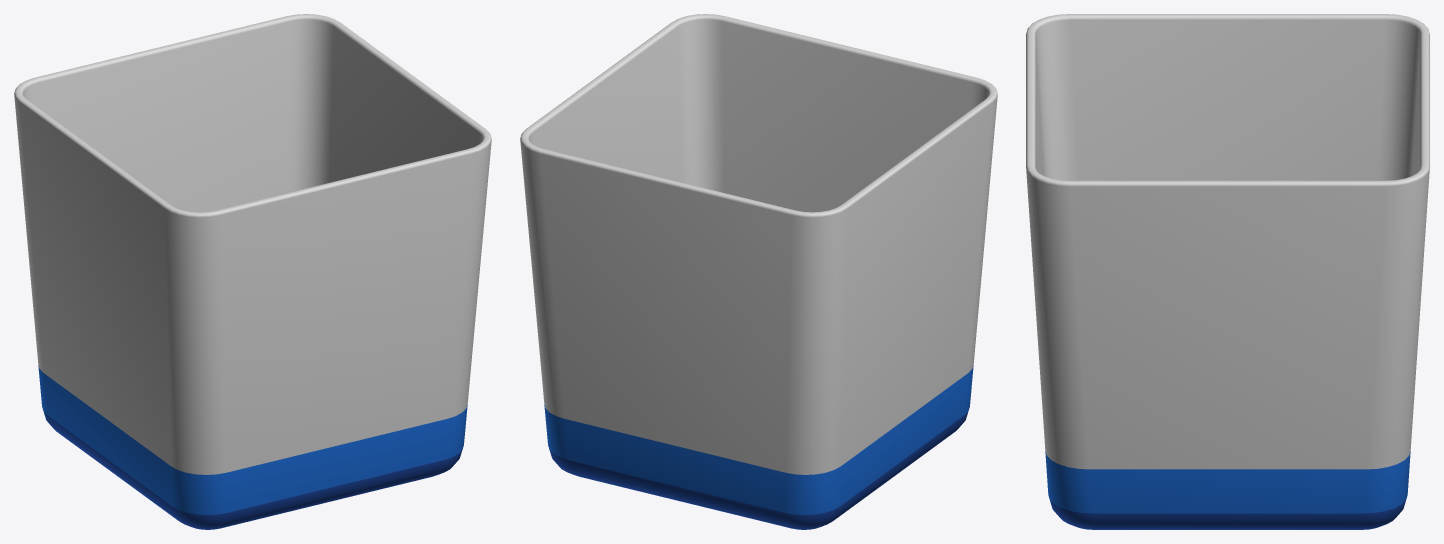
File: akvaryum.fbx
3 views of the same model, side by side, from view 1: azimuth 30°, elevation 25°; view 2: azimuth 150°, elevation 25°; view 3: azimuth 270°, elevation 25° (orthographic). The views are drawn at different scales.
Parts seen in each view (by area): view 1: akvaryum, akvaryum.001; view 2: akvaryum, akvaryum.001; view 3: akvaryum, akvaryum.001.
Boxes of the visible parts, x1,y1,x2,y2 form: akvaryum: [14, 14, 491, 474]; akvaryum.001: [38, 365, 467, 529]; akvaryum: [520, 14, 997, 474]; akvaryum.001: [544, 365, 973, 529]; akvaryum: [1026, 14, 1429, 469]; akvaryum.001: [1045, 451, 1410, 529].
Bounding box in the file's own units: 200 × 200 × 200.
